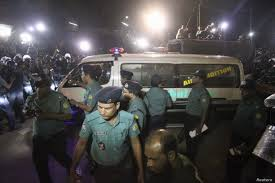ambulance: (56, 47, 244, 104)
